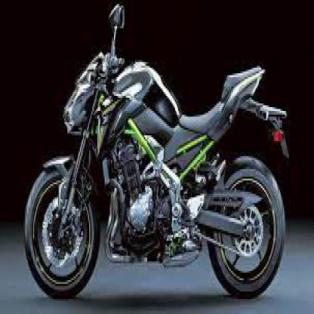Motocicleta: (20, 4, 293, 301)
